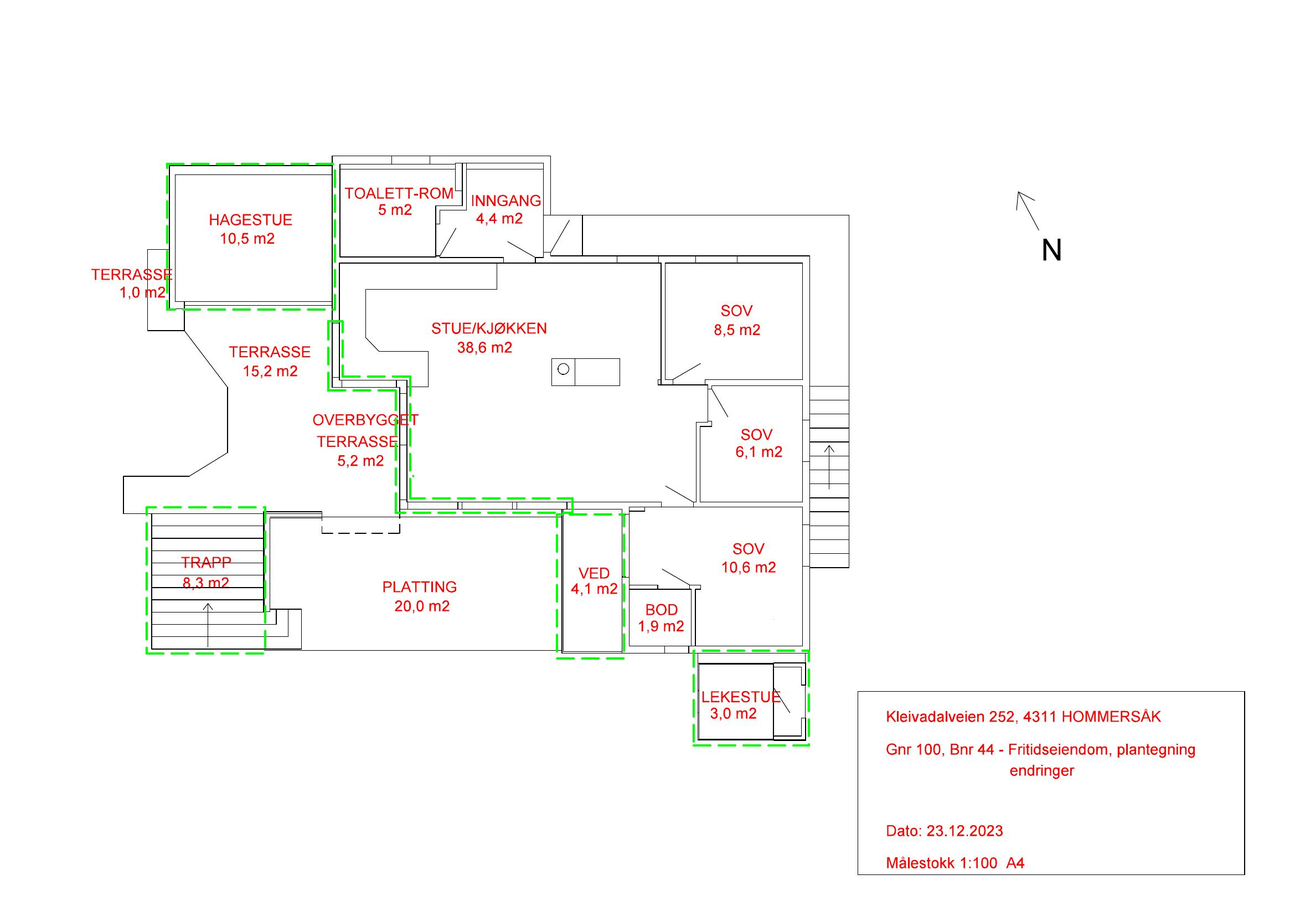plantegning: (121, 154, 852, 747)
